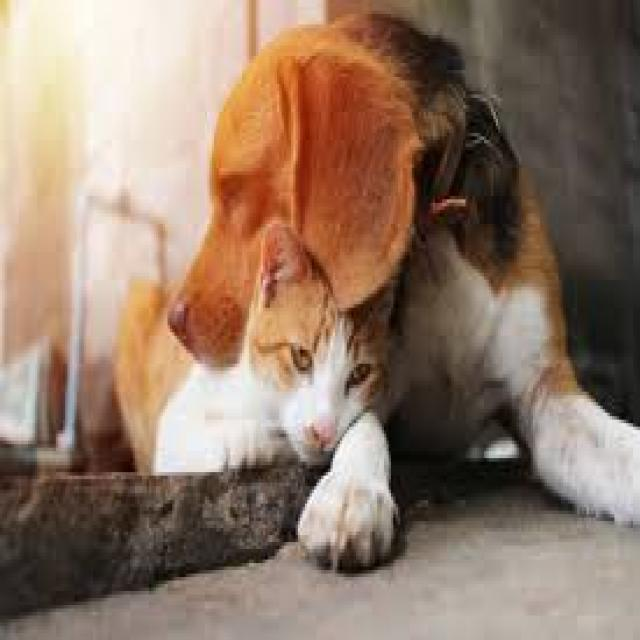Cat: (236, 219, 407, 467)
Dog: (165, 6, 420, 363)
